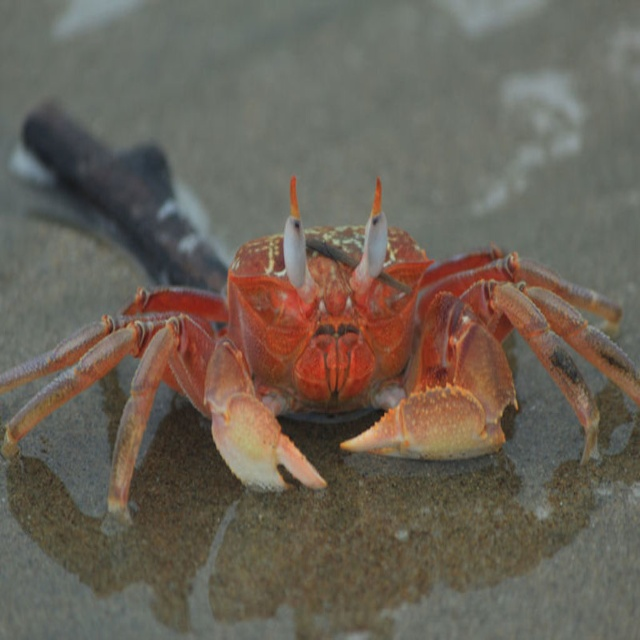Crab: (0, 174, 640, 516)
